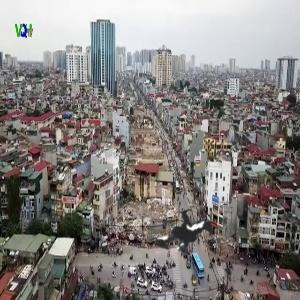drone: (90, 135, 256, 300)
